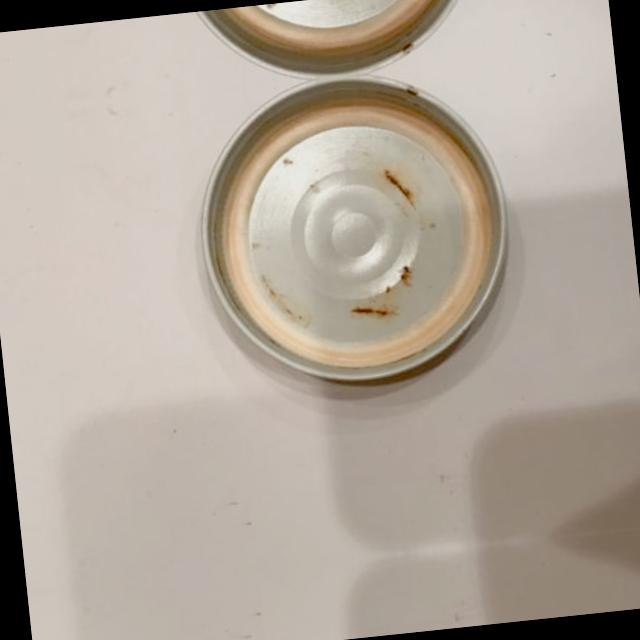Metal: (89, 56, 564, 444), (80, 0, 527, 102)
